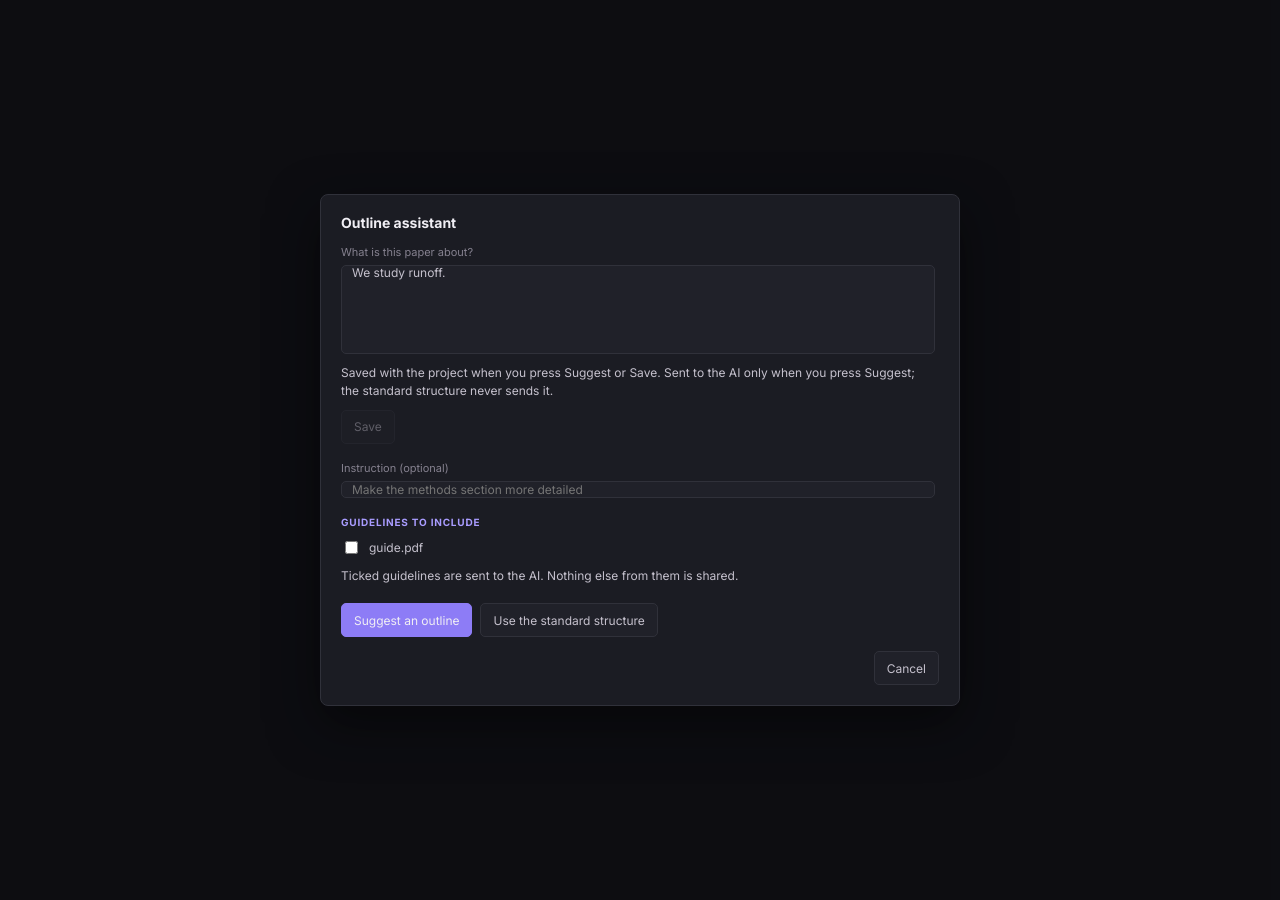
Scenario: OutlineAssistantDialog › mentions snapshots only when something was renamed or moved
Click the button "Suggest an outline".
click(407, 620)  # box [341,603,472,637]
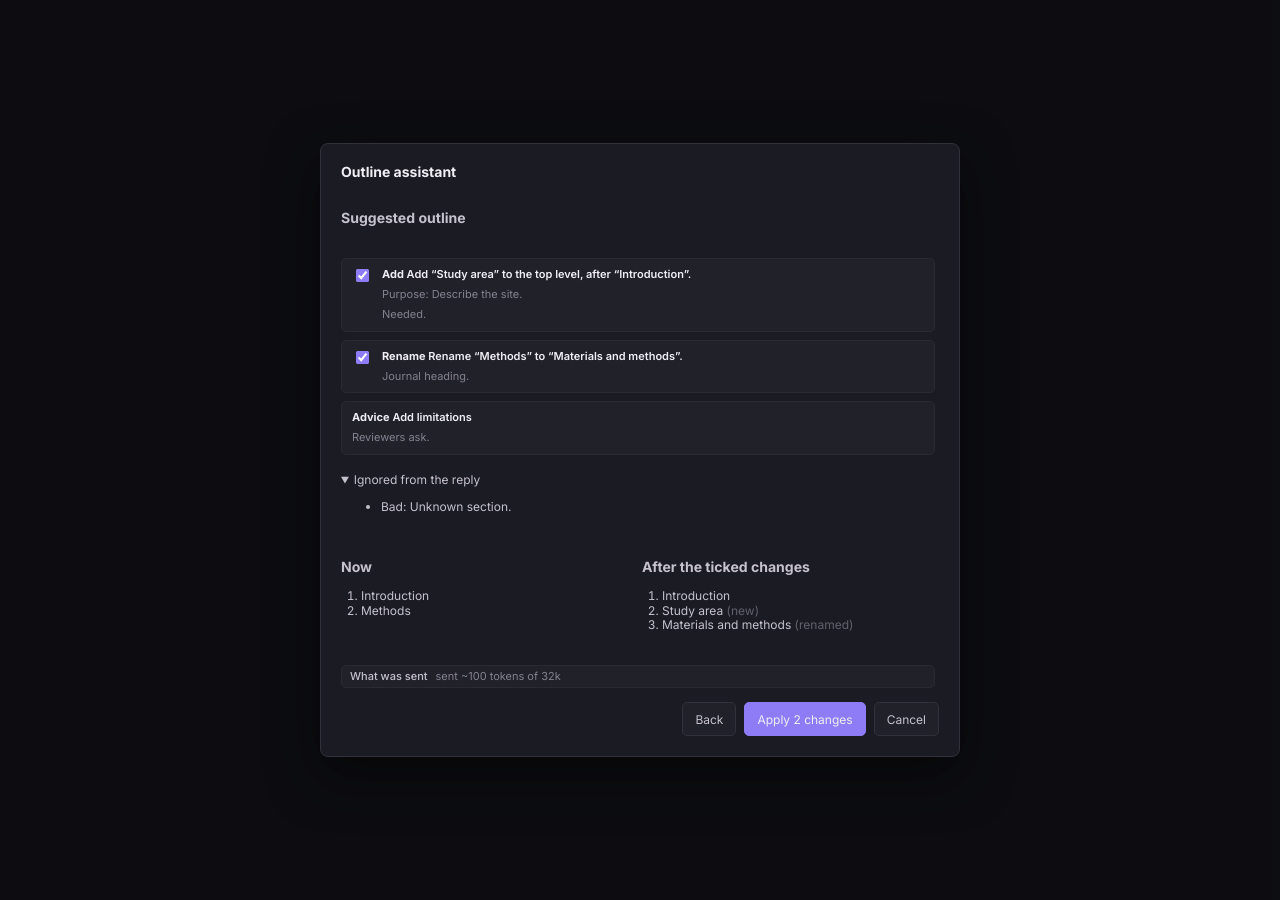
Click the checkbox named "Rename “Methods” to “Materials and methods”.".
click(362, 357)  # box [356,351,369,364]
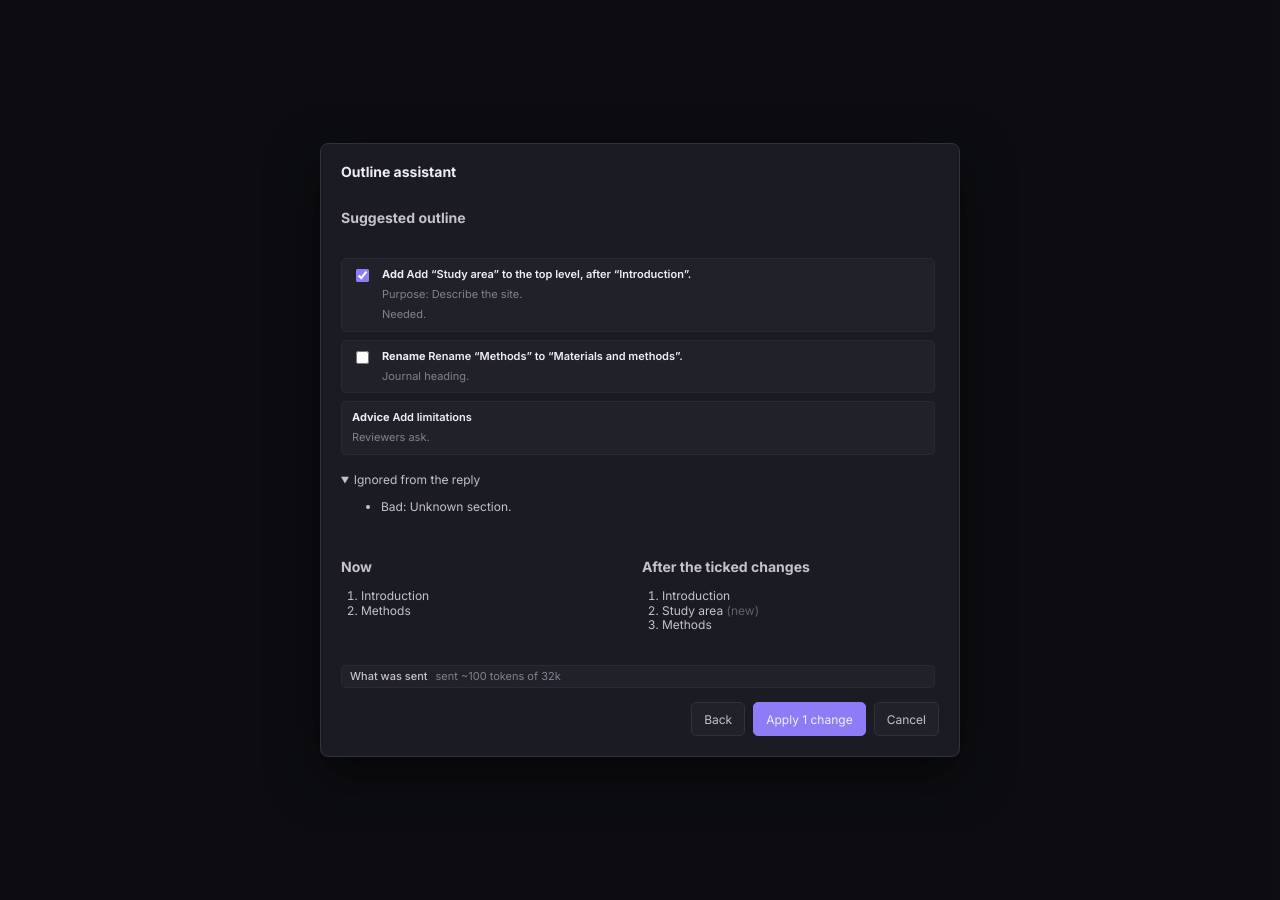
Click the button "Apply 1 change".
click(809, 719)  # box [753,702,866,736]
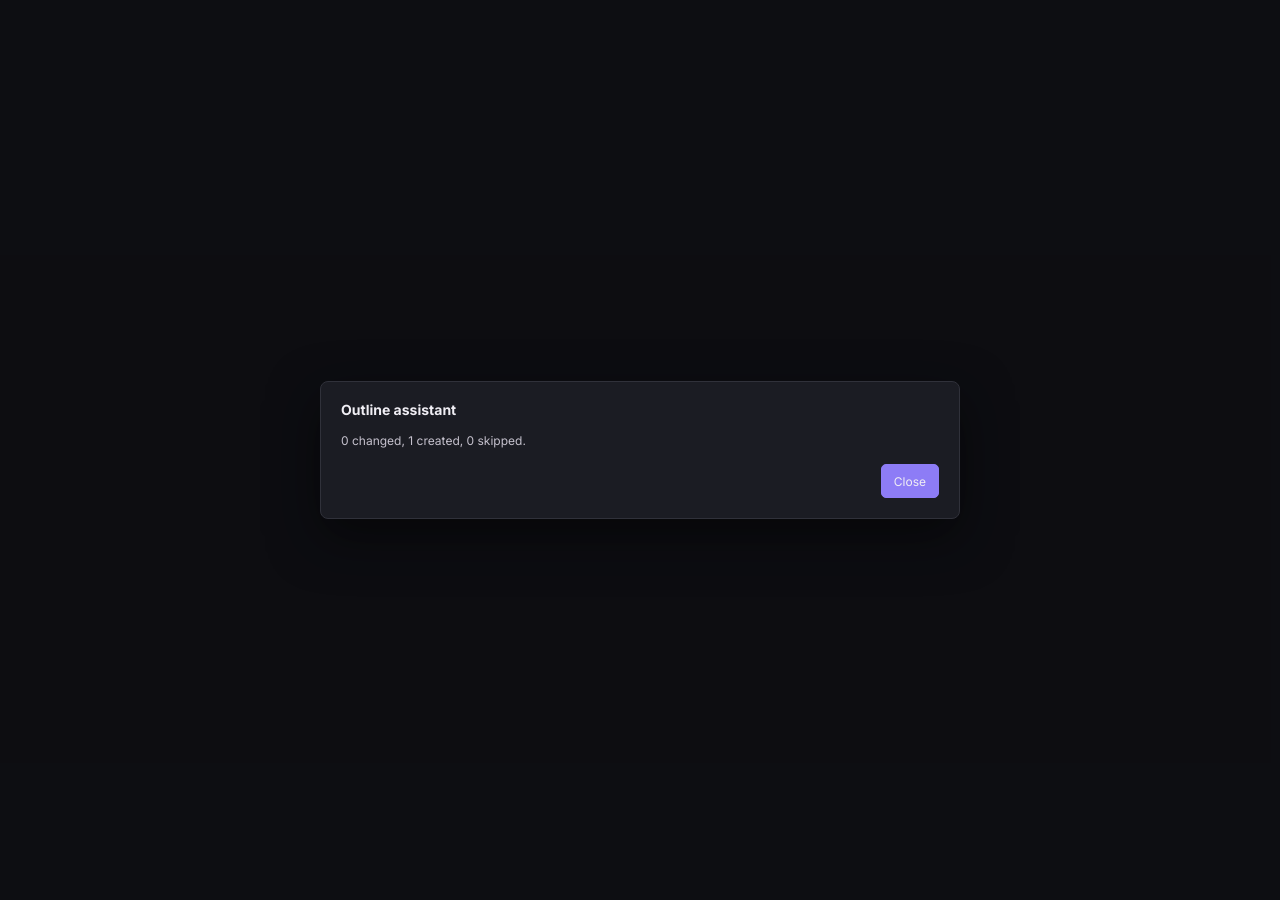
Expected: the text "0 changed, 1 created" is shown, [341,434,526,448]
